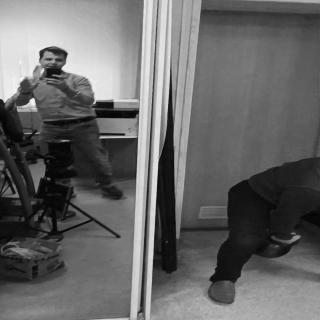kettlebell: (257, 232, 301, 263)
